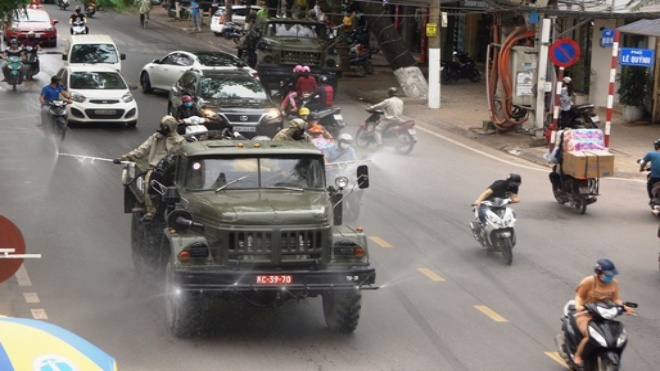plate: (254, 274, 293, 286), (230, 122, 261, 134), (91, 106, 116, 116), (578, 184, 594, 196), (406, 125, 418, 137)
